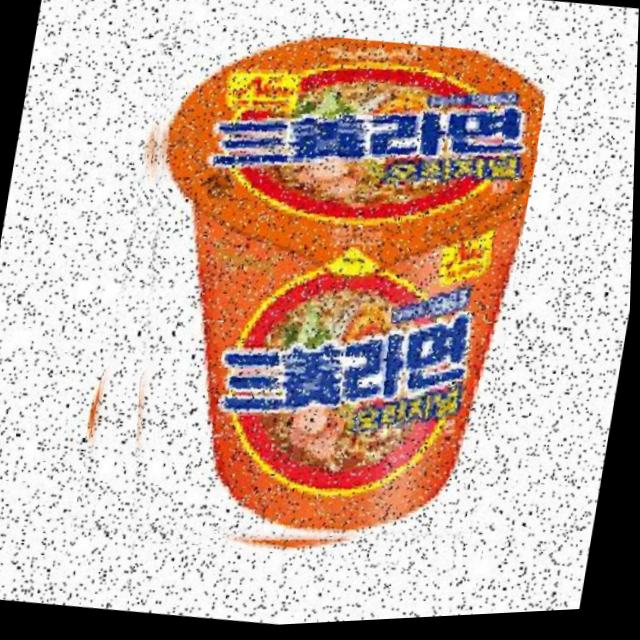Miscellaneous: (76, 8, 554, 594)
